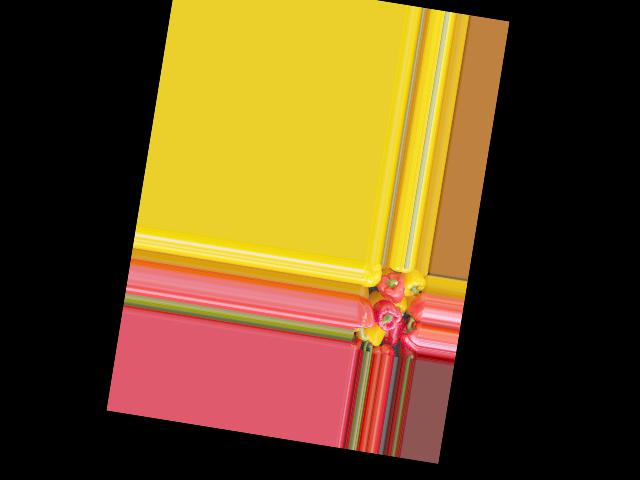bell_pepper: (400, 268, 425, 296)
